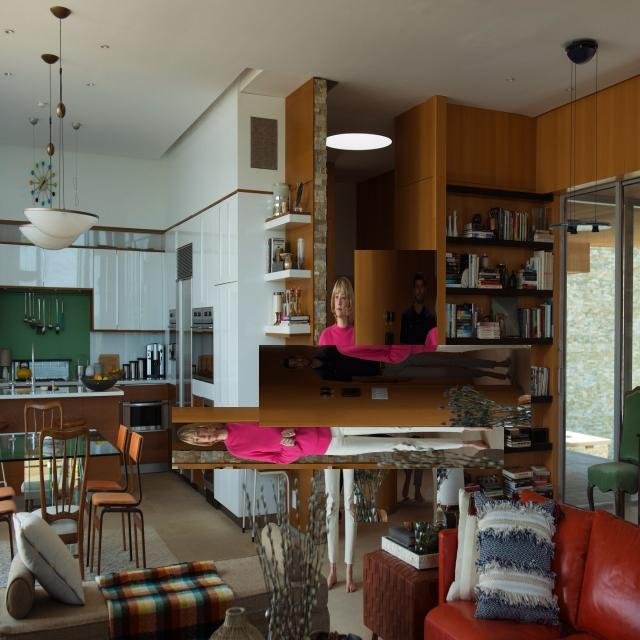NotFall: (209, 406, 562, 472)
